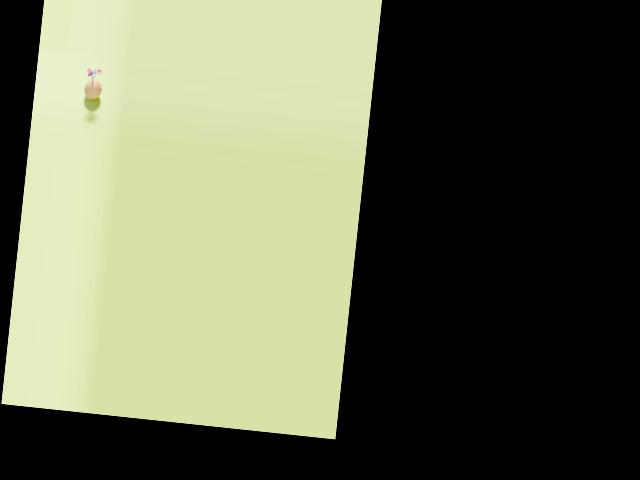egg: (83, 79, 102, 100)
